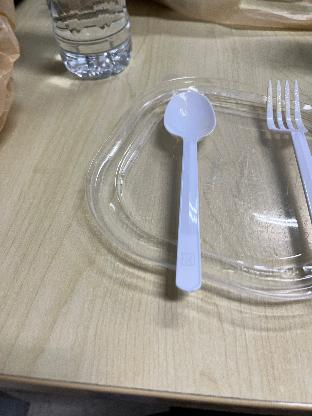Others: (162, 82, 220, 294), (258, 74, 312, 247)
